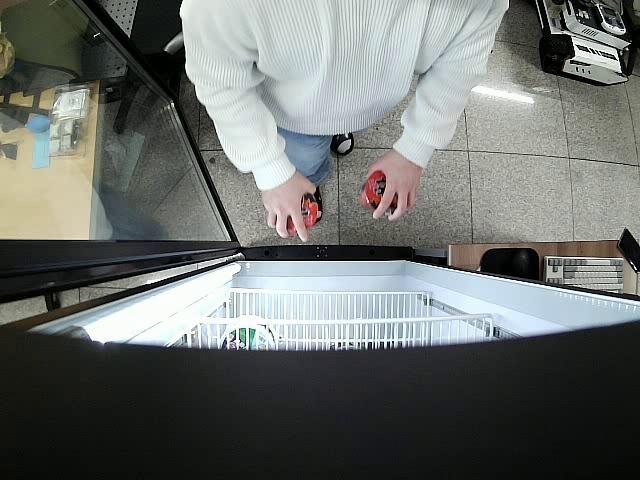02_shinRamen_S: (360, 172, 410, 214), (274, 192, 320, 234)
